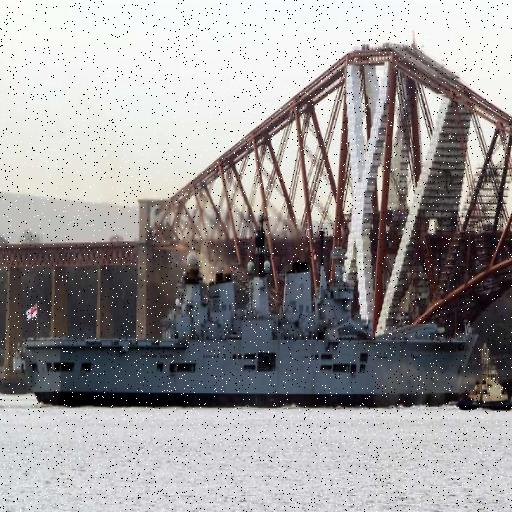Portanaves: (15, 205, 486, 410)
